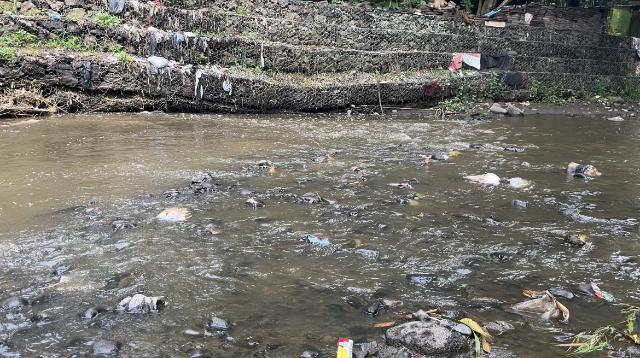Sampah Anorganik: (519, 293, 559, 324), (34, 274, 94, 291), (563, 160, 599, 181), (460, 171, 501, 186), (304, 231, 329, 245), (592, 281, 612, 298), (386, 183, 415, 192), (336, 339, 351, 356), (511, 176, 526, 188), (452, 150, 459, 156), (348, 167, 357, 171)
Sampah Organik: (391, 305, 487, 358), (577, 324, 640, 358), (153, 206, 191, 222), (394, 192, 428, 208), (341, 235, 365, 251), (572, 232, 587, 242), (160, 188, 176, 195), (265, 164, 275, 172), (327, 156, 334, 164), (423, 158, 430, 165)
